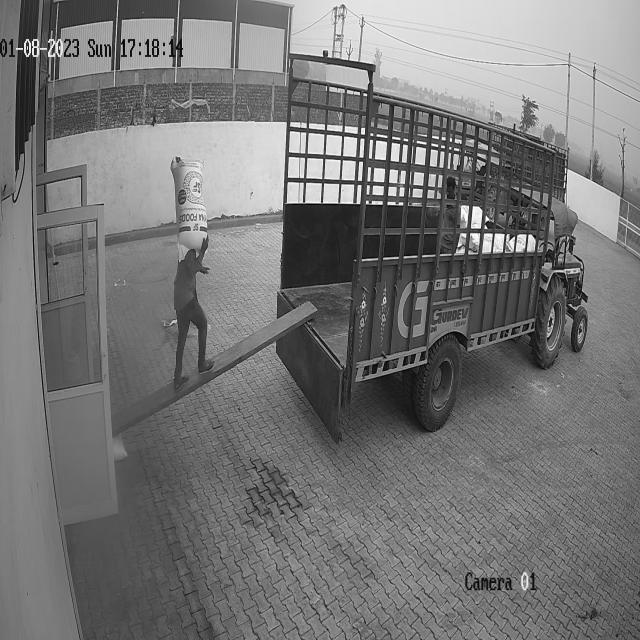sack: (170, 157, 207, 261)
